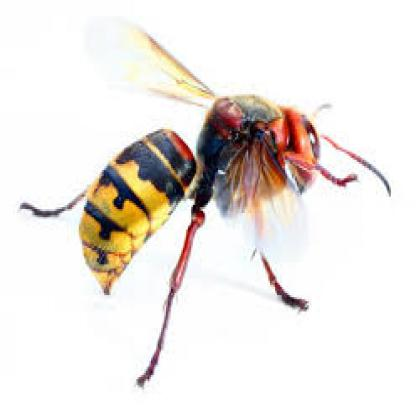european: (60, 33, 364, 383)
